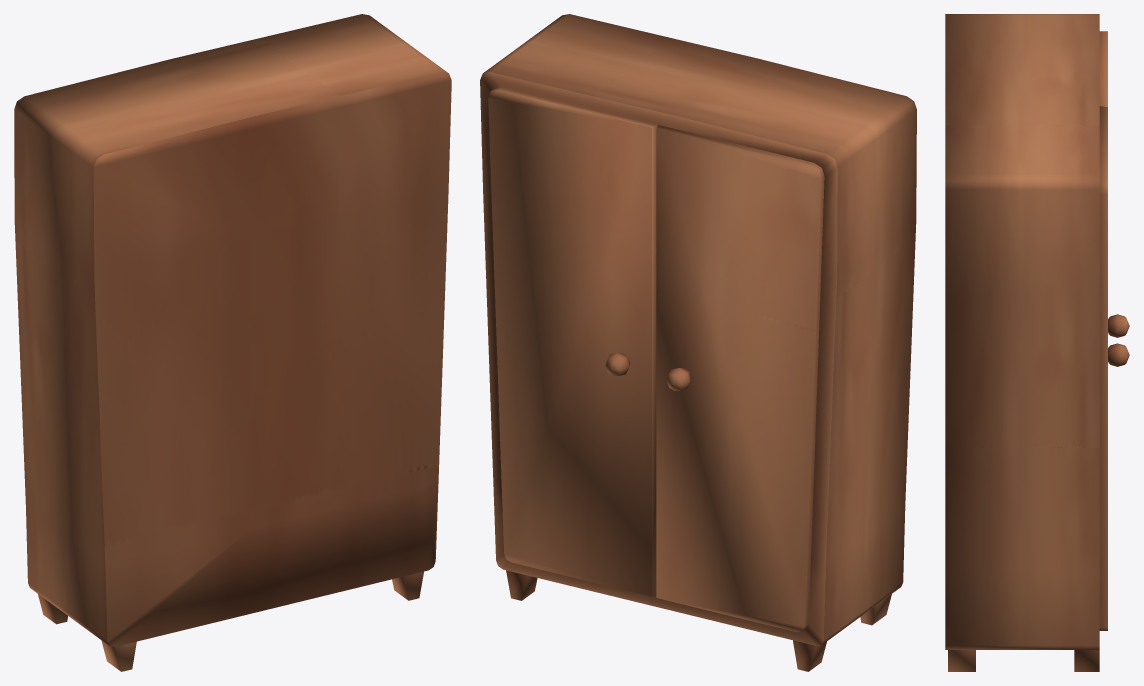
The model's file is CupboardWithArmature.fbx.
The picture shows the model from 3 angles, left to right: view 1: azimuth 30°, elevation 25°; view 2: azimuth 150°, elevation 25°; view 3: azimuth 270°, elevation 25°; orthographic projection. The views are drawn at different scales.
Visible parts, largest first — view 1: Bone; view 2: Bone; view 3: Bone.
Boxes of the visible parts, x1,y1,x2,y2 form: Bone: [14, 14, 451, 671]; Bone: [480, 14, 916, 671]; Bone: [945, 14, 1129, 671].
Size of the model in its own units: 112 by 157 by 51.47.
